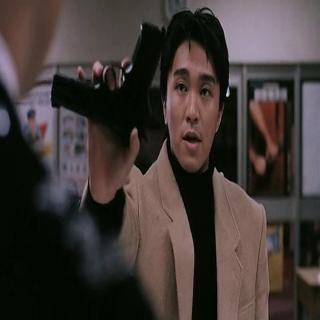gun: (49, 16, 160, 146)
